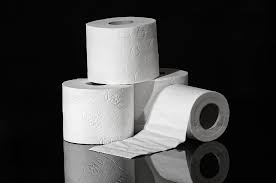paper: (94, 82, 230, 161), (81, 15, 169, 87), (56, 76, 138, 149), (130, 67, 194, 151)
